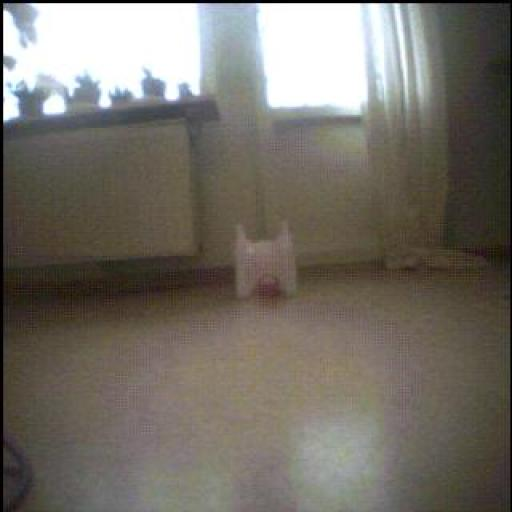Basket: (255, 272, 282, 301)
